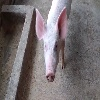heo: (33, 6, 70, 85)
